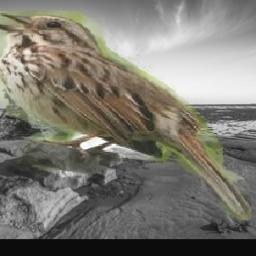Sparrow: (0, 8, 251, 220)
